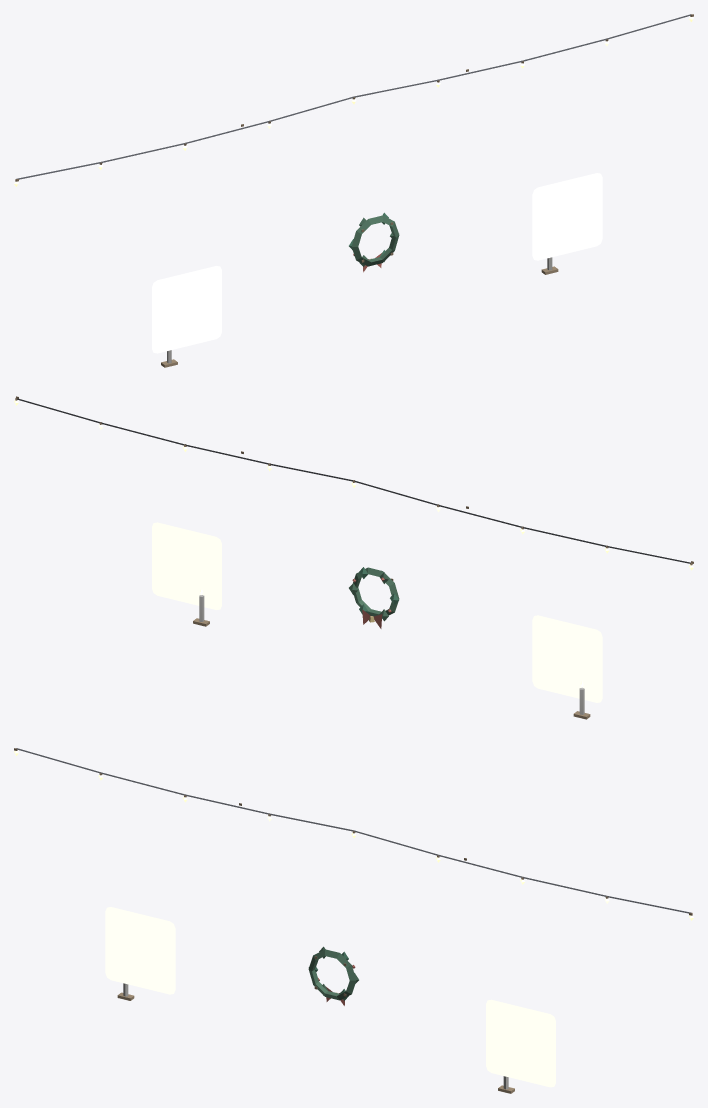
Rendered from house_dress_house_low.glb.
3 renders of one model, top to bottom at view 1: azimuth 30°, elevation 25°; view 2: azimuth 150°, elevation 25°; view 3: azimuth 330°, elevation 25°, orthographic.
Size of the model in its own units: 6.79 by 1.93 by 0.4338.
